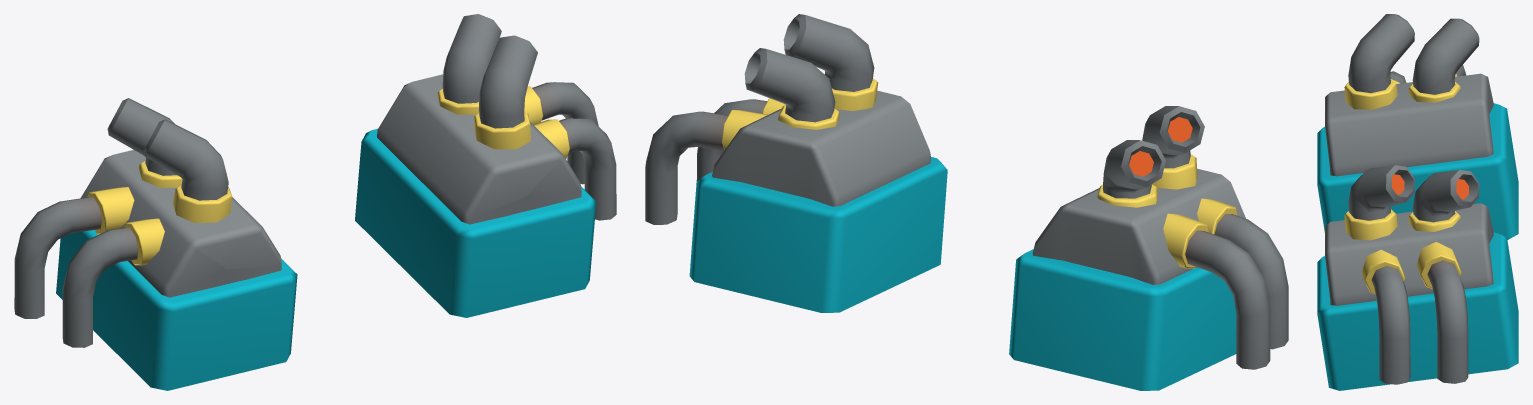
File: Car_14_Engine.fbx
The picture shows the model from 3 angles, left to right: view 1: azimuth 30°, elevation 25°; view 2: azimuth 150°, elevation 25°; view 3: azimuth 270°, elevation 25°; orthographic projection. The views are drawn at different scales.
Visible parts, largest first — view 1: Car_14_Engine; view 2: Car_14_Engine; view 3: Car_14_Engine.
Part boxes in pixels (bbox=[...]): Car_14_Engine: bbox=[14, 14, 616, 390]; Car_14_Engine: bbox=[645, 14, 1288, 390]; Car_14_Engine: bbox=[1317, 14, 1518, 390].
Bounding box in the file's own units: 123 × 41.63 × 47.4.
